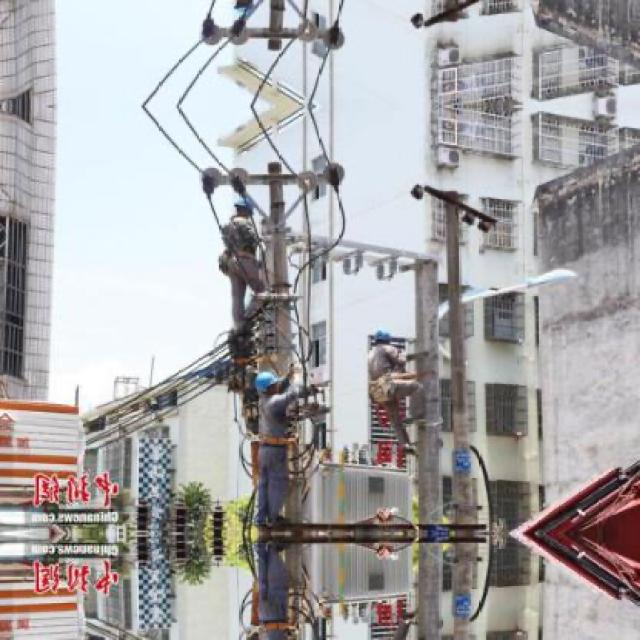con casco: (233, 371, 301, 401), (255, 188, 263, 200)
